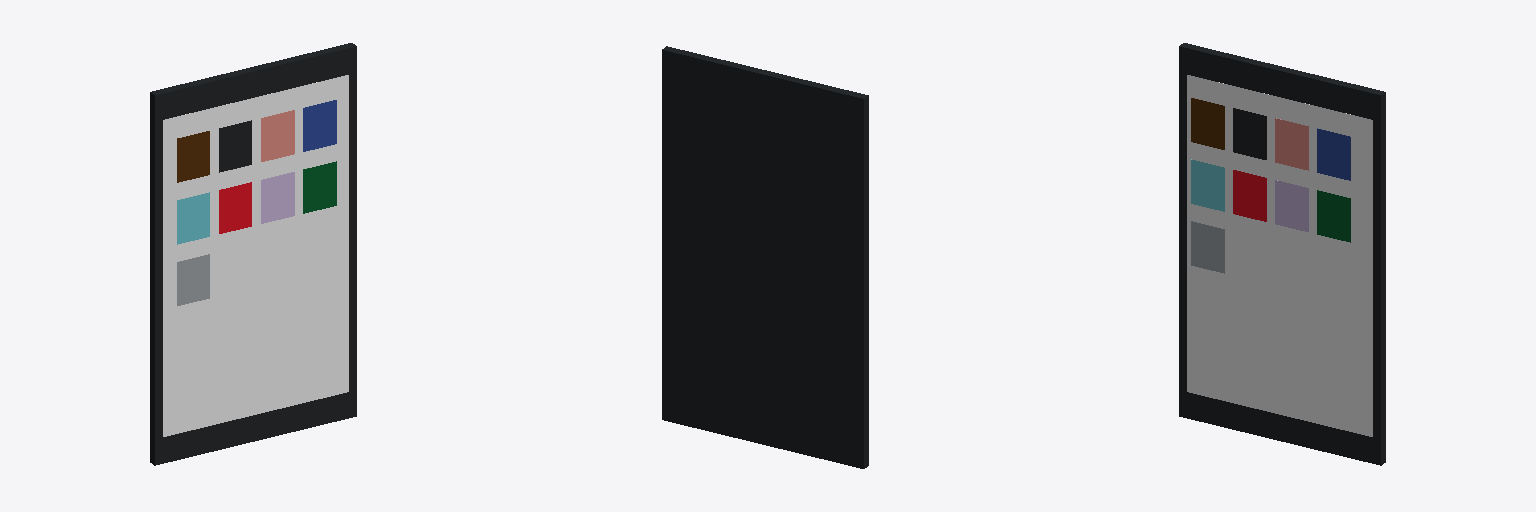
The model's file is tinker.obj.
The picture shows the model from 3 angles: view 1: azimuth 30°, elevation 25°; view 2: azimuth 150°, elevation 25°; view 3: azimuth 330°, elevation 25°; orthographic projection.
Parts seen in each view (by area): view 1: obj_0; view 2: obj_0; view 3: obj_0.
Boxes of the visible parts, <box> form: obj_0: <box>150,43,356,465</box>; obj_0: <box>662,46,868,468</box>; obj_0: <box>1179,43,1385,465</box>.
Size of the model in its own units: 24 by 42 by 2.01.